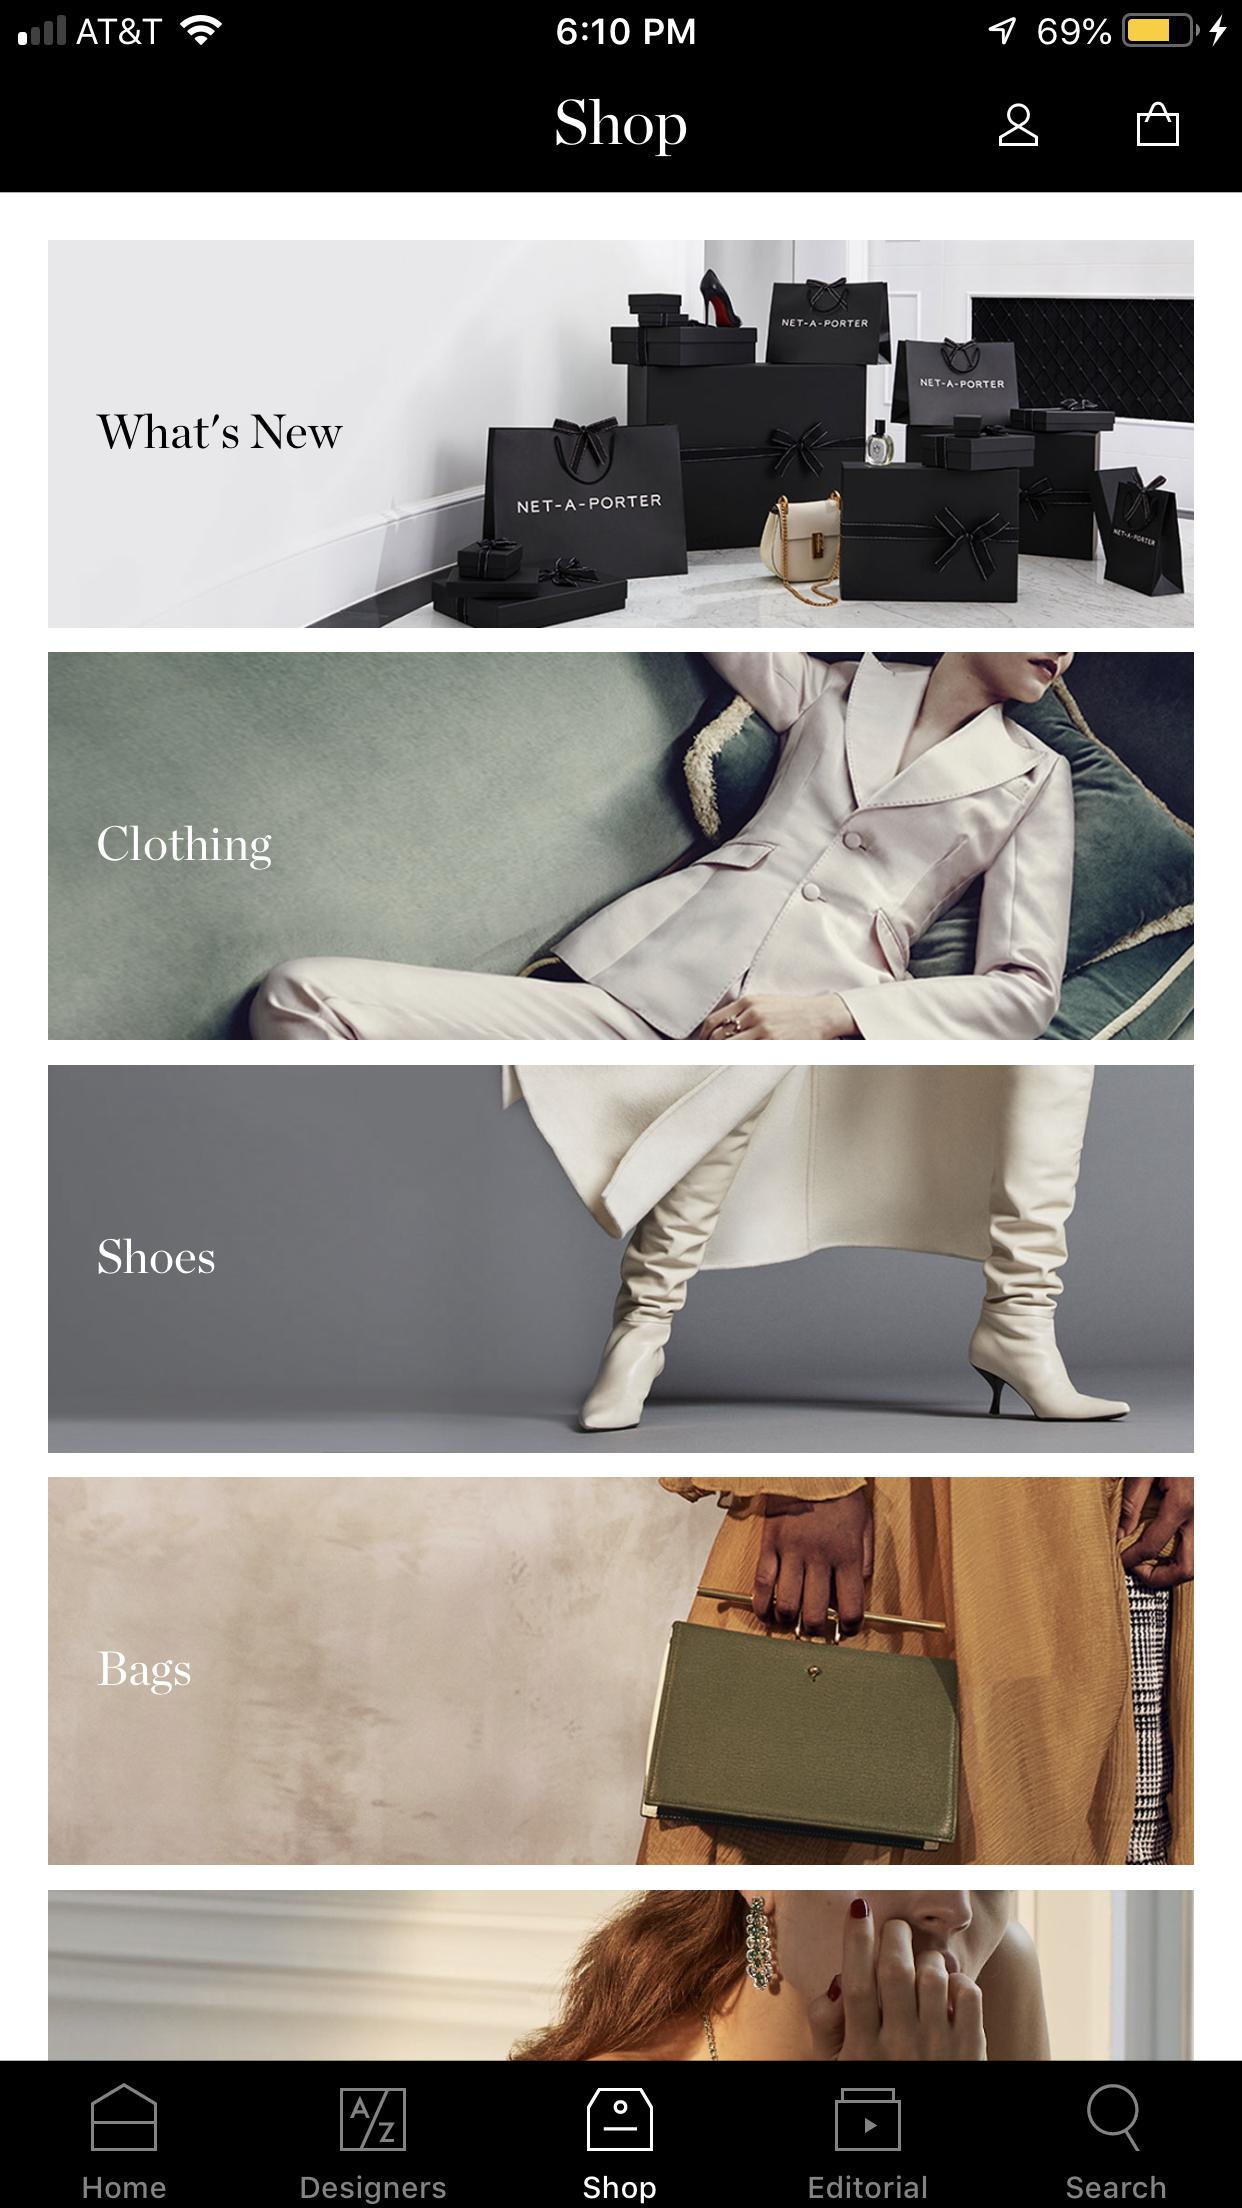Icon: (91, 2084, 159, 2152), (834, 2088, 902, 2152), (1086, 2084, 1145, 2153), (1136, 102, 1180, 149), (998, 105, 1039, 149)
Image: (49, 652, 1195, 1040), (49, 241, 1193, 629), (49, 1066, 1193, 1454), (49, 1477, 1193, 1865), (49, 1890, 1193, 2061), (585, 2087, 654, 2152), (340, 2088, 408, 2152)
Text: (96, 412, 346, 450), (99, 823, 273, 872), (557, 99, 688, 158), (99, 1237, 215, 1275), (96, 1650, 193, 1695), (300, 2175, 447, 2203), (808, 2175, 927, 2200), (1066, 2175, 1168, 2200), (582, 2175, 657, 2203), (83, 2176, 168, 2199)
UpperTaskBar: (2, 2, 1242, 49)
